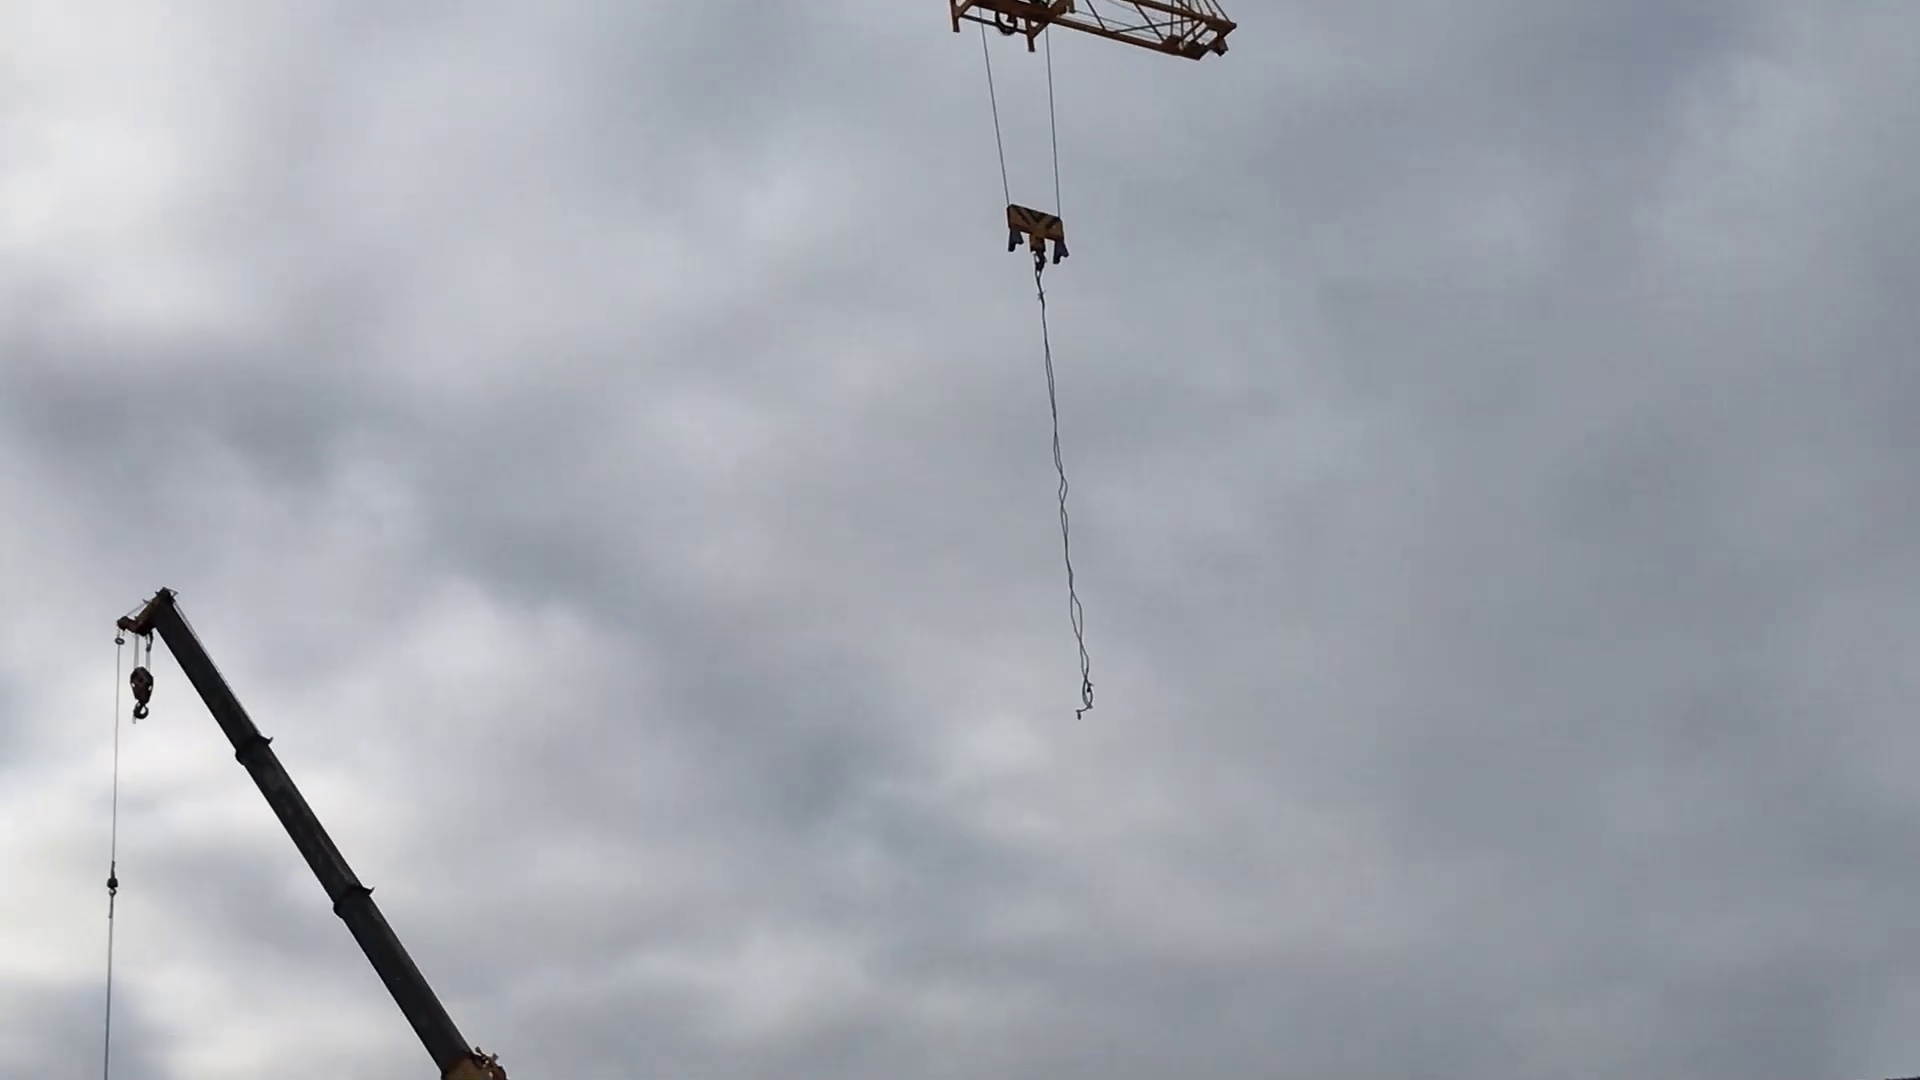hook: (1002, 187, 1072, 309), (109, 662, 182, 727)
